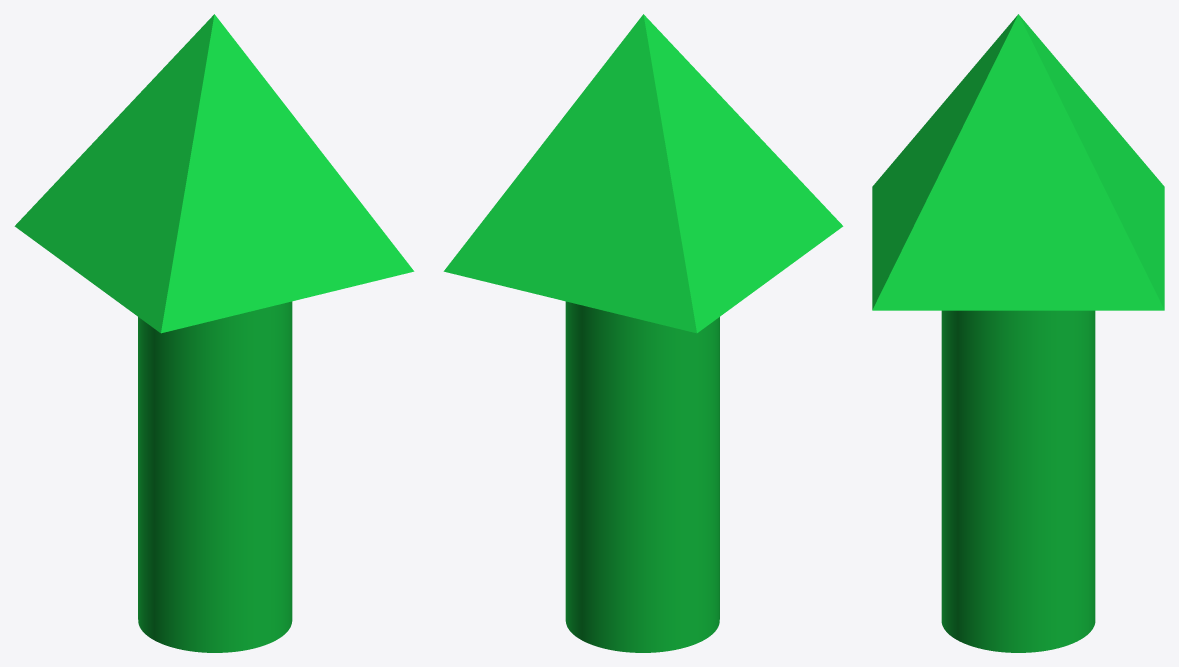
File: arrow.fbx
3 views of the same model, side by side, from view 1: azimuth 30°, elevation 25°; view 2: azimuth 150°, elevation 25°; view 3: azimuth 270°, elevation 25° (orthographic).
Visible parts, largest first — view 1: node_id5, node_id8; view 2: node_id5, node_id8; view 3: node_id5, node_id8.
Part boxes in pixels (bbox=[...]): node_id5: bbox=[14, 14, 414, 333]; node_id8: bbox=[138, 301, 292, 652]; node_id5: bbox=[443, 14, 843, 333]; node_id8: bbox=[565, 301, 719, 652]; node_id5: bbox=[872, 14, 1164, 310]; node_id8: bbox=[941, 310, 1095, 652].
Bounding box in the file's own units: 0.224 × 0.512 × 0.224.
2 materials, 2 textured.
